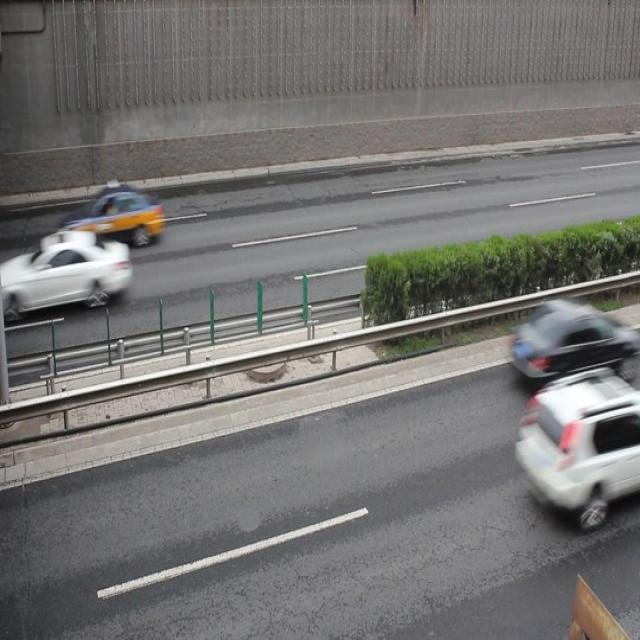car: (510, 368, 640, 520), (1, 227, 132, 316), (507, 294, 628, 386), (55, 182, 165, 247)
